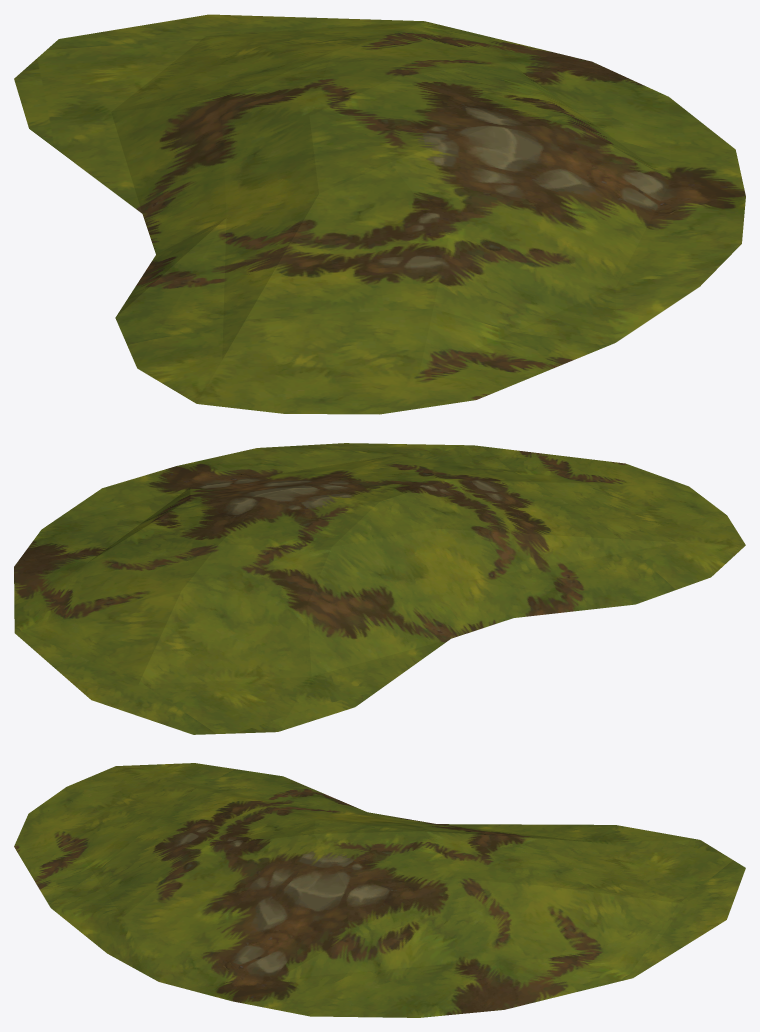
File: small_hill02.fbx
3 views of the same model, one above another, from view 1: azimuth 30°, elevation 25°; view 2: azimuth 150°, elevation 25°; view 3: azimuth 270°, elevation 25° (orthographic). The views are drawn at different scales.
Visible parts, largest first — view 1: obj0.016; view 2: obj0.016; view 3: obj0.016.
Part boxes in pixels (<box>): obj0.016: <box>14,14,745,414</box>; obj0.016: <box>14,443,745,734</box>; obj0.016: <box>14,763,745,1017</box>.
Size of the model in its own units: 13.97 by 1.36 by 16.94.
